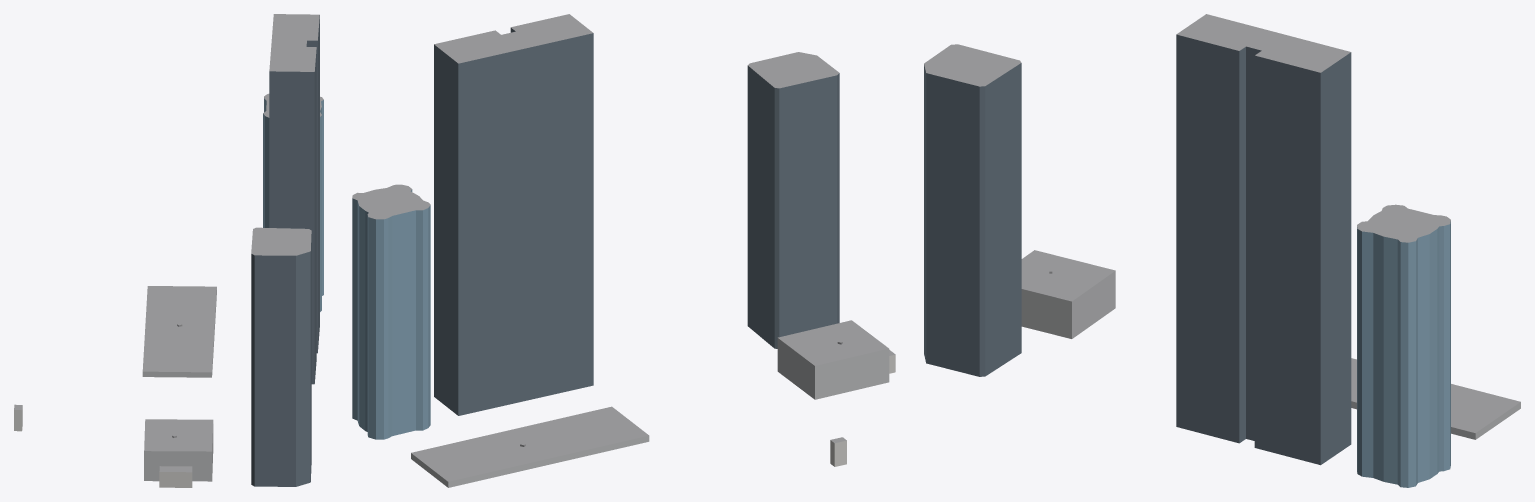
File: building_-3_-4.glb
3 renders of one model, left to right at view 1: azimuth 30°, elevation 25°; view 2: azimuth 150°, elevation 25°; view 3: azimuth 270°, elevation 25°, orthographic. The views are drawn at different scales.
Visible parts, largest first — view 1: glass_dark, roof, industrial, glass_blue, concrete_light; view 2: glass_dark, roof, glass_blue, industrial; view 3: glass_dark, glass_blue, roof, industrial.
Boxes of the visible parts, left/top/right/bottom form: glass_dark: left=251, top=15, right=319, bottom=486; roof: left=14, top=14, right=323, bottom=472; industrial: left=142, top=290, right=216, bottom=481; glass_blue: left=263, top=97, right=323, bottom=311; concrete_light: left=14, top=406, right=192, bottom=487; glass_dark: left=434, top=28, right=839, bottom=415; roof: left=352, top=14, right=895, bottom=481; glass_blue: left=352, top=189, right=430, bottom=439; industrial: left=411, top=338, right=889, bottom=487; glass_dark: left=924, top=34, right=1351, bottom=465; glass_blue: left=1357, top=221, right=1450, bottom=487; roof: left=924, top=14, right=1520, bottom=432; industrial: left=1021, top=271, right=1520, bottom=439.
Size of the model in its own units: 250 by 200 by 276.
